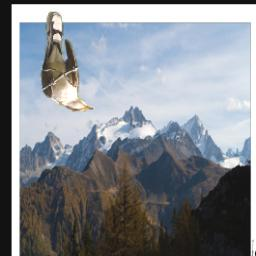Cuckoo: (41, 12, 96, 112)
